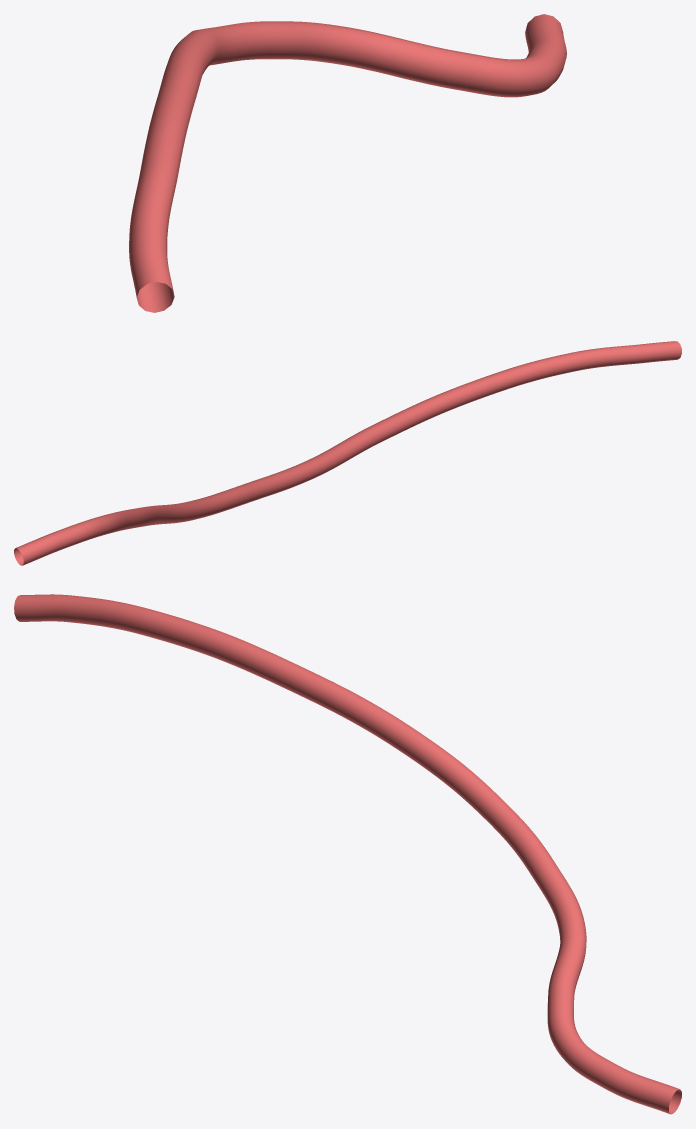
Rendered from Lacrimal_artery.r_BezierCurve.094.glb.
3 views of the same model, one above another, from view 1: azimuth 30°, elevation 25°; view 2: azimuth 150°, elevation 25°; view 3: azimuth 270°, elevation 25° (orthographic). The views are drawn at different scales.
Parts seen in each view (by area): view 1: Lacrimal_artery.r_BezierCurve.094; view 2: Lacrimal_artery.r_BezierCurve.094; view 3: Lacrimal_artery.r_BezierCurve.094.
Boxes of the visible parts, x1,y1,x2,y2 form: Lacrimal_artery.r_BezierCurve.094: (129,14,566,312); Lacrimal_artery.r_BezierCurve.094: (14,341,681,565); Lacrimal_artery.r_BezierCurve.094: (14,594,681,1114).
Size of the model in its own units: 0.0267 by 0.00987 by 0.0247.
